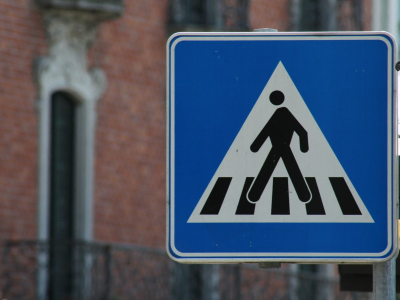crosswalk: (179, 44, 384, 247)
